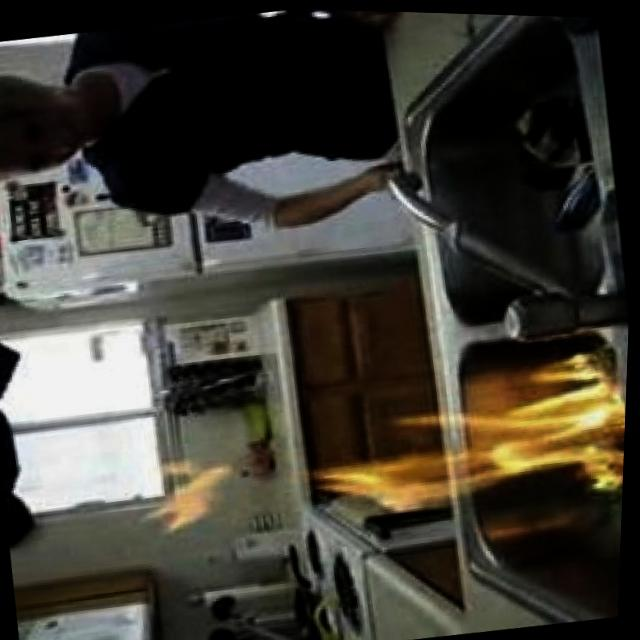Fire: (292, 343, 630, 533), (136, 433, 253, 536)
